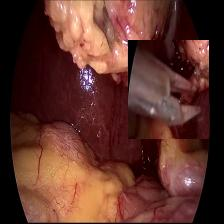Clipper: (128, 40, 209, 139)
